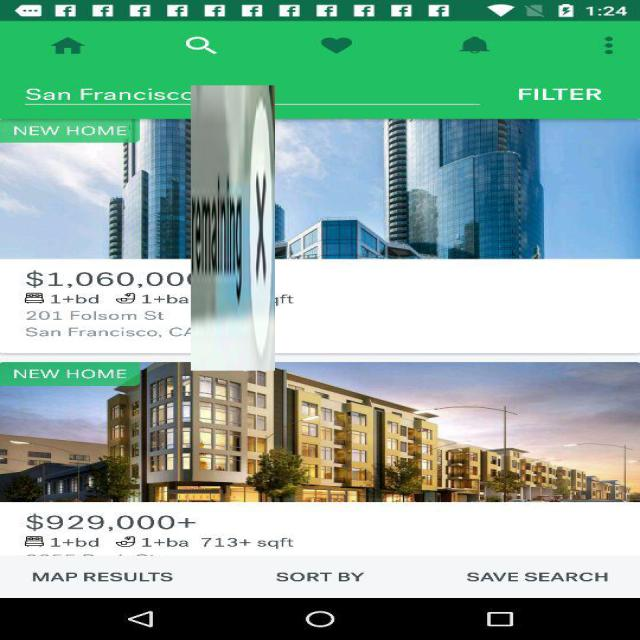misdirection: (191, 85, 275, 371)
